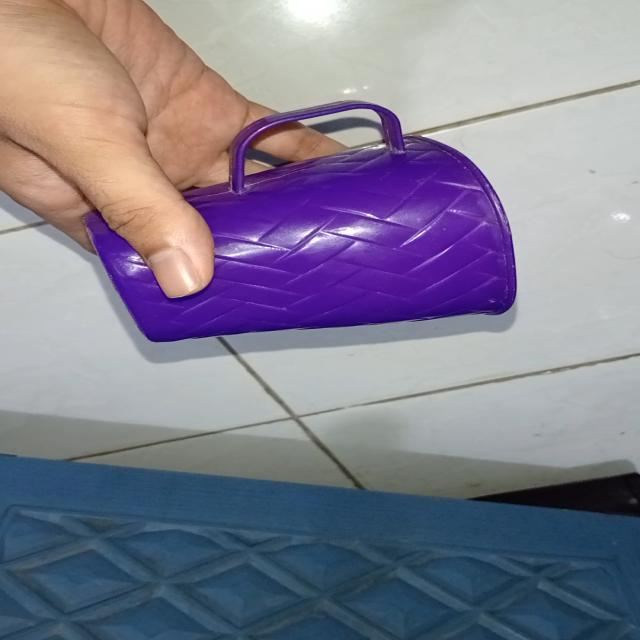gelas bekas: (82, 100, 518, 345)
